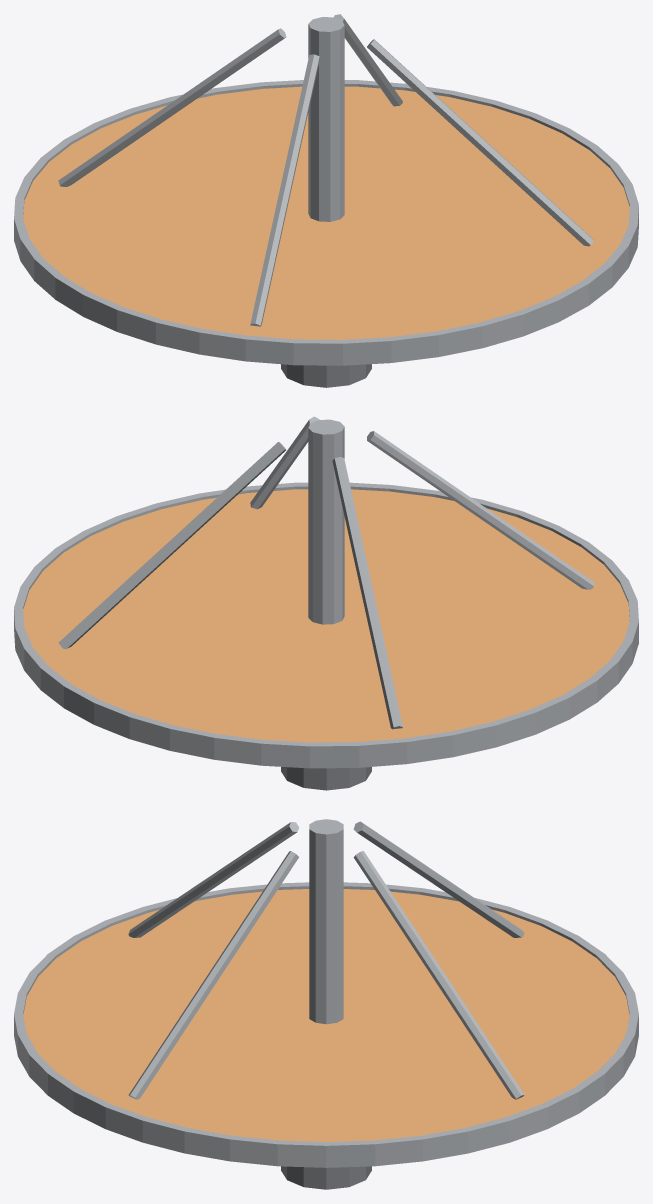
File: merry_go_round.glb
3 renders of one model, top to bottom at view 1: azimuth 30°, elevation 25°; view 2: azimuth 150°, elevation 25°; view 3: azimuth 270°, elevation 25°, orthographic.
Visible parts, largest first — view 1: merry_go_round_orange_p, merry_go_round_steel, merry_go_round_steel_d; view 2: merry_go_round_orange_p, merry_go_round_steel, merry_go_round_steel_d; view 3: merry_go_round_orange_p, merry_go_round_steel, merry_go_round_steel_d.
Part boxes in pixels (box(x1,y1,x2,y2)): merry_go_round_orange_p: box(23, 86, 629, 339); merry_go_round_steel: box(14, 14, 638, 365); merry_go_round_steel_d: box(281, 364, 371, 387); merry_go_round_orange_p: box(23, 489, 629, 742); merry_go_round_steel: box(14, 416, 638, 768); merry_go_round_steel_d: box(281, 767, 371, 790); merry_go_round_orange_p: box(23, 889, 629, 1141); merry_go_round_steel: box(14, 819, 638, 1167); merry_go_round_steel_d: box(281, 1166, 371, 1189).
Bounding box in the file's own units: 2.06 × 1.25 × 2.06.
